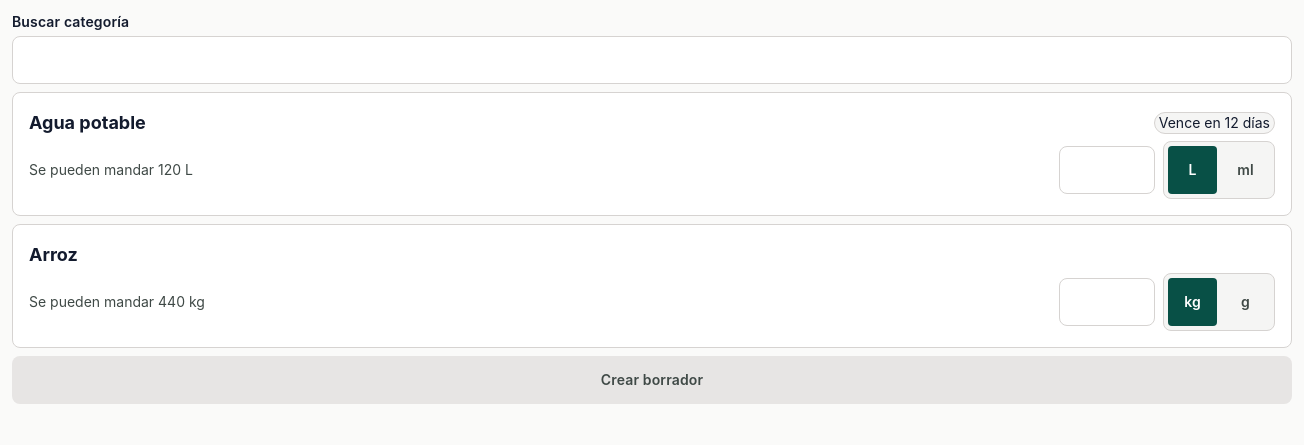
Test: una cantidad por encima del tope se marca y no deja guardar
This screenshot has width=1304, height=445.
In the number field named "Cantidad de Arroz (kg)" in the row of "440 kg": (1107, 302) [1059,278,1155,326], type "500"
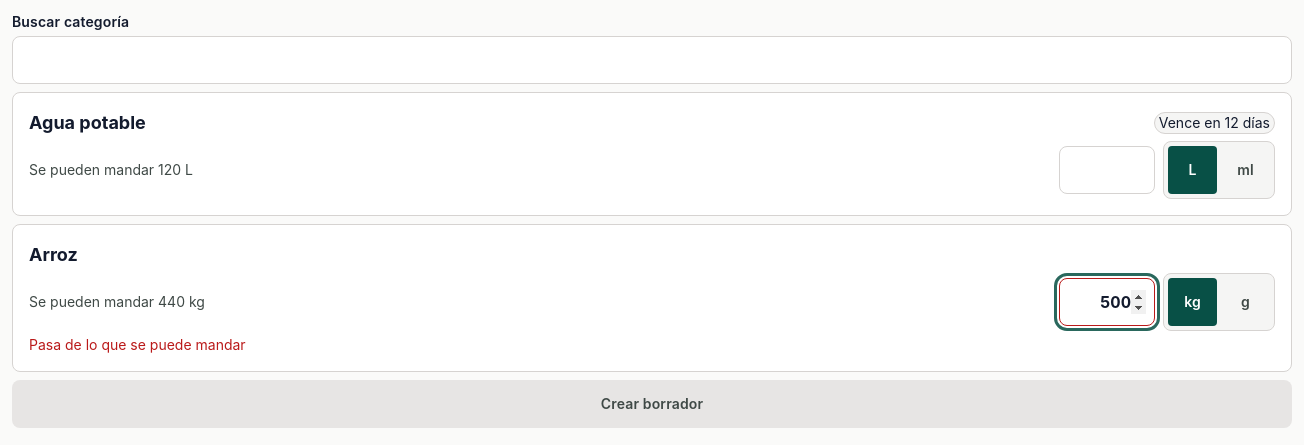
Expected: the button "Crear borrador" is disabled, [12,380,1292,428]
Expected: the text "Pasa de lo que se puede mandar" is shown, [29,336,246,353]
